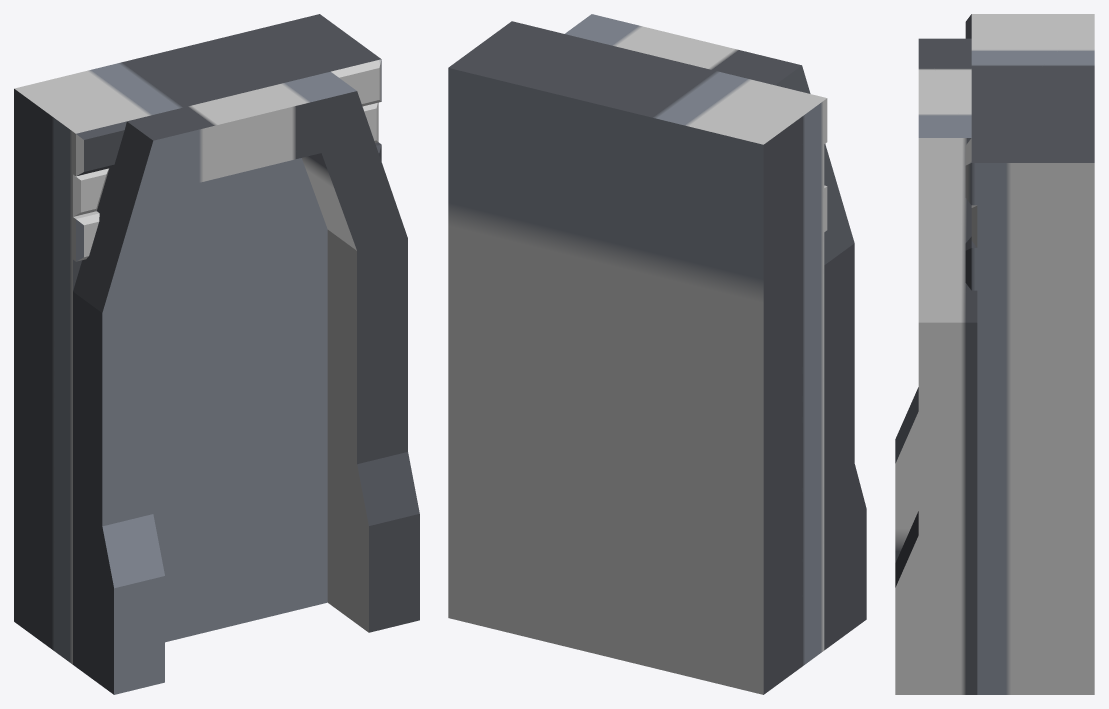
Rendered from Entrance2_0.fbx.
3 renders of one model, left to right at view 1: azimuth 30°, elevation 25°; view 2: azimuth 150°, elevation 25°; view 3: azimuth 270°, elevation 25°, orthographic. The views are drawn at different scales.
Visible parts, largest first — view 1: Entrance.008; view 2: Entrance.008; view 3: Entrance.008.
Boxes of the visible parts, <box> form: Entrance.008: <box>14,14,419,694</box>; Entrance.008: <box>448,14,866,694</box>; Entrance.008: <box>895,14,1094,694</box>.
Bounding box in the file's own units: 600 × 1000 × 340.
